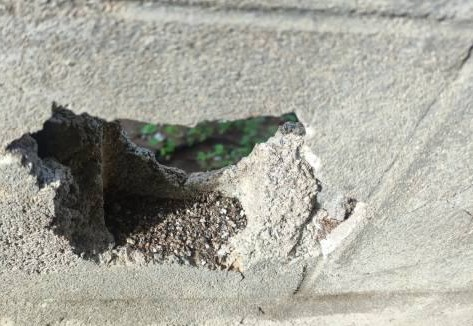Spalling: (1, 100, 358, 271)
